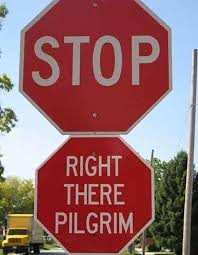Stop: (16, 1, 185, 133)
